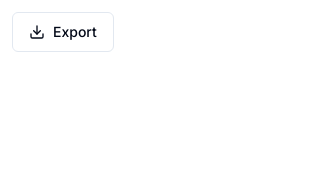
Test case: ExportButton › should open dropdown menu when clicked
What coordinates should you click on to do the following:
click the button "Export"
I would click on:
 (63, 32)
Its box is top-left (12, 12), bottom-right (114, 52).
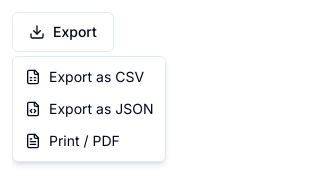
Now the menu item "Export as CSV" is shown, box top-left (25, 68), bottom-right (144, 85)
Now the menu item "Export as JSON" is shown, box top-left (25, 100), bottom-right (154, 117)
Now the menu item "Print / PDF" is shown, box top-left (25, 132), bottom-right (120, 149)
